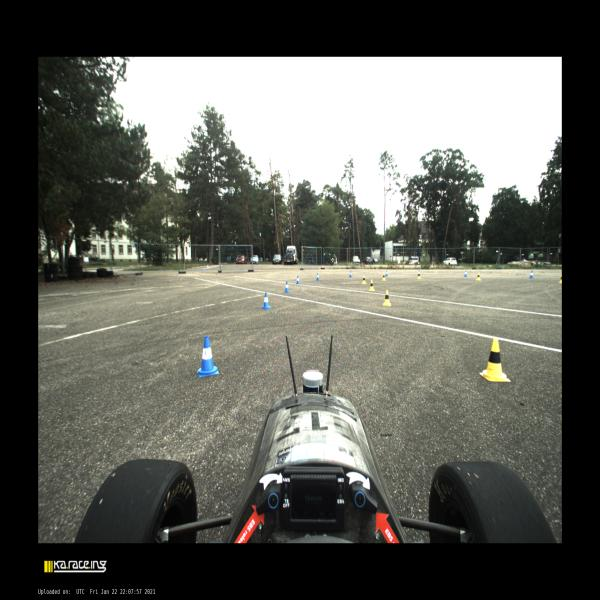blue_cone: (197, 335, 219, 378), (262, 292, 271, 310), (284, 281, 290, 292), (296, 275, 300, 285), (529, 271, 534, 278), (464, 270, 468, 277), (316, 273, 320, 280), (417, 269, 421, 276), (349, 270, 352, 278), (385, 270, 388, 276)
yellow_cone: (479, 338, 511, 382), (383, 290, 391, 306), (368, 280, 376, 290), (381, 273, 386, 281), (476, 272, 481, 280), (362, 275, 366, 284), (417, 272, 421, 279), (559, 275, 562, 283)
